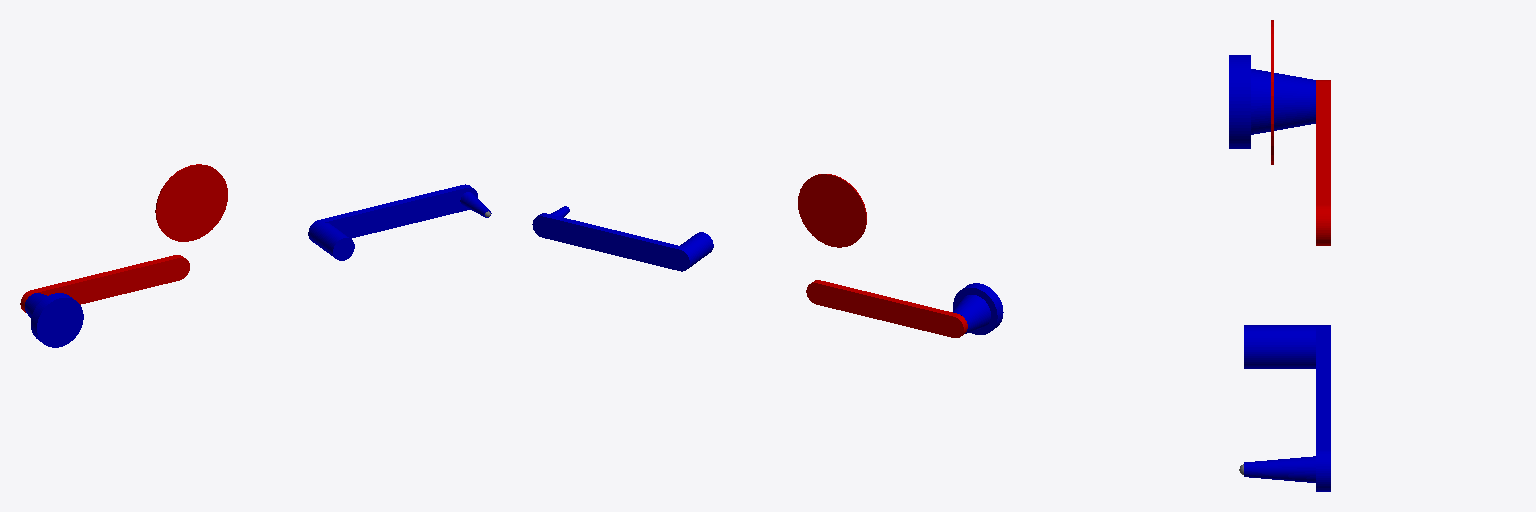
URDF robot description (rrr_robot):
<?xml version="1.0"?>
<robot name="rrr_robot">

  <!-- Materials -->
  <material name="blue">
    <color rgba="0.0 0.0 0.8 1.0"/>
  </material>
  <material name="red">
    <color rgba="0.8 0.0 0.0 1.0"/>
  </material>
  <material name="green">
    <color rgba="0.0 0.8 0.0 1.0"/>
  </material>
  <material name="grey">
    <color rgba="0.5 0.5 0.5 1.0"/>
  </material>

  <link name="world"/>

  <joint name="world_to_base" type="fixed">
    <parent link="world"/>
    <child link="base_joint_link"/>
    <origin xyz="0 0 0" rpy="0 -1.5708 3.141592"/>
  </joint>
  <!-- Base Joint Link (Now the Root Link) -->
  <!-- This link is implicitly fixed to the world origin -->
  <link name="base_joint_link">
    <visual>
      <origin xyz="0 0 0" rpy="0 0 0"/>
      <geometry>
        <mesh filename="package://rrr_challenge/urdf/mesh/base_joint.stl" scale="1 1 1"/>
      </geometry>
      <material name="blue"/>
    </visual>
    <collision>
      <origin xyz="0 0 0" rpy="0 0 0"/>
      <geometry>
        <mesh filename="package://rrr_challenge/urdf/mesh/base_joint.stl" scale="1 1 1"/>
      </geometry>
    </collision>
    <inertial>
      <mass value="0.5"/>
      <inertia ixx="0.005" ixy="0.0" ixz="0.0" iyy="0.005" iyz="0.0" izz="0.005"/>
    </inertial>
  </link>

  <!-- Link 1 -->
  <link name="link1">
    <visual>
      <origin xyz="0 0 0" rpy="0 0 0"/>
      <geometry>
        <mesh filename="package://rrr_challenge/urdf/mesh/first_arm.stl" scale="1 1 1"/>
      </geometry>
      <material name="red"/>
    </visual>
    <collision>
      <origin xyz="0 0 0" rpy="0 0 0"/>
      <geometry>
        <mesh filename="package://rrr_challenge/urdf/mesh/first_arm.stl" scale="1 1 1"/>
      </geometry>
    </collision>
    <inertial>
      <mass value="0.5"/>
      <inertia ixx="0.005" ixy="0.0" ixz="0.0" iyy="0.005" iyz="0.0" izz="0.005"/>
    </inertial>
  </link>

  <!-- Joint 1 -->
  <joint name="joint1" type="revolute">
    <parent link="base_joint_link"/> <!-- This parent is correct -->
    <child link="link1"/>
    <origin xyz="0 -0.175 0" rpy="0 0 0"/> <!-- Adjust this origin if the mesh's own origin is not where the joint should attach -->
    <axis xyz="0 1 0"/>
    <limit lower="-3.14159" upper="3.14159" effort="100" velocity="1.0"/>
    <dynamics damping="0.1" friction="0.1"/>
  </joint>

  <!-- Link 2 -->
  <link name="link2">
    <visual>
      <origin xyz="0 0 0" rpy="0 0 0"/>
      <geometry>
        <mesh filename="package://rrr_challenge/urdf/mesh/second_arm.stl" scale="1 1 1"/>
      </geometry>
      <material name="green"/>
    </visual>
    <collision>
      <origin xyz="0 0 0" rpy="0 0 0"/>
      <geometry>
        <mesh filename="package://rrr_challenge/urdf/mesh/second_arm.stl" scale="1 1 1"/>
      </geometry>
    </collision>
    <inertial>
      <mass value="0.5"/>
      <inertia ixx="0.005" ixy="0.0" ixz="0.0" iyy="0.005" iyz="0.0" izz="0.005"/>
    </inertial>
  </link>

  <!-- Joint 2 -->
  <joint name="joint2" type="revolute">
    <parent link="link1"/>
    <child link="link2"/>
    <origin xyz="0 0.3 1" rpy="0 0 0"/>
    <axis xyz="0 1 0"/>
    <limit lower="-3.14159" upper="3.14159" effort="100" velocity="1.0"/>
    <dynamics damping="0.1" friction="0.1"/>
  </joint>

  <!-- Link 3 (End Effector) -->
  <link name="link3">
    <visual>
      <origin xyz="0 0 0" rpy="0 0 3.14159"/>
      <geometry>
        <mesh filename="package://rrr_challenge/urdf/mesh/third_arm.stl" scale="1 1 1"/>
      </geometry>
      <material name="blue"/>
    </visual>
    <collision>
      <origin xyz="0 0 0" rpy="0 0 3.14159"/>
      <geometry>
        <mesh filename="package://rrr_challenge/urdf/mesh/third_arm.stl" scale="1 1 1"/>
      </geometry>
    </collision>
    <inertial>
      <mass value="0.3"/>
      <inertia ixx="0.003" ixy="0.0" ixz="0.0" iyy="0.003" iyz="0.0" izz="0.003"/>
    </inertial>
  </link>

  <!-- Joint 3 -->
  <joint name="joint3" type="revolute">
    <parent link="link2"/>
    <child link="link3"/>
    <origin xyz="0 -0.3 1" rpy="0 0 0"/>
    <axis xyz="0 1 0"/>
    <limit lower="-3.14159" upper="3.14159" effort="100" velocity="1.0"/>
    <dynamics damping="0.1" friction="0.1"/>
  </joint>

  <!-- Virtual End Effector Link -->
  <link name="end_effector_tip">
    <visual>
      <origin xyz="0 0 0" rpy="0 0 0"/>
      <geometry>
        <sphere radius="0.02"/> <!-- A small sphere to visualize the tip -->
      </geometry>
      <material name="grey"> <!-- Or any other color -->
        <color rgba="0.5 0.5 0.5 0.7"/>
      </material>
    </visual>
    <!-- No collision or inertial properties needed for a virtual point -->
  </link>

  <!-- Fixed Joint to attach End Effector to Link 3 -->
  <joint name="end_effector_fixed_joint" type="fixed">
    <parent link="link3"/>
    <child link="end_effector_tip"/>
    <!-- Adjust XYZ to position the tip relative to link3's origin -->
    <!-- This example places it 0.1m along link3's Z-axis -->
    <origin xyz="0 0.27 1" rpy="0 0 0"/>
  </joint>

  <!-- Transmissions for ROS Control -->
  <transmission name="tran1">
    <type>transmission_interface/SimpleTransmission</type>
    <joint name="joint1">
      <hardwareInterface>hardware_interface/PositionJointInterface</hardwareInterface>
    </joint>
    <actuator name="motor1">
      <hardwareInterface>hardware_interface/PositionJointInterface</hardwareInterface>
      <mechanicalReduction>1</mechanicalReduction>
    </actuator>
  </transmission>

  <transmission name="tran2">
    <type>transmission_interface/SimpleTransmission</type>
    <joint name="joint2">
      <hardwareInterface>hardware_interface/PositionJointInterface</hardwareInterface>
    </joint>
    <actuator name="motor2">
      <hardwareInterface>hardware_interface/PositionJointInterface</hardwareInterface>
      <mechanicalReduction>1</mechanicalReduction>
    </actuator>
  </transmission>

  <transmission name="tran3">
    <type>transmission_interface/SimpleTransmission</type>
    <joint name="joint3">
      <hardwareInterface>hardware_interface/PositionJointInterface</hardwareInterface>
    </joint>
    <actuator name="motor3">
      <hardwareInterface>hardware_interface/PositionJointInterface</hardwareInterface>
      <mechanicalReduction>1</mechanicalReduction>
    </actuator>
  </transmission>

  <material name="constraint_red">
    <color rgba="0.8 0.0 0.0 0.3"/>
  </material>


  <link name="constraint_disk">
    <visual>
      <origin xyz="0 0 0" rpy="1.5708 0 0"/>
      <geometry>
        <cylinder radius="0.25" length="0.01"/>
      </geometry>
      <material name="constraint_red"/>
    </visual>
    <inertial>
      <mass value="0.0001"/>
      <inertia ixx="0.0000001" ixy="0.0" ixz="0.0" iyy="0.0000001" iyz="0.0" izz="0.0000001"/>
    </inertial>
  </link>

 
  <joint name="constraint_disk_joint" type="fixed">
    <parent link="base_joint_link"/>
    <child link="constraint_disk"/>
    <origin xyz="0.5 0 1" rpy="0 0 0"/>
  </joint>

</robot>

--- Facts derived from the render (not from the file) ---
3 views of the same robot in one strip: view 1: azimuth 30°, elevation 25°; view 2: azimuth 150°, elevation 25°; view 3: azimuth 270°, elevation 25° (orthographic).
Model rrr_robot with 7 links and 6 joints (3 revolute, 3 fixed), rooted at world, posed every joint at zero.
Visible links, largest first — view 1: link3, constraint_disk, link1, base_joint_link; view 2: link3, link1, constraint_disk, base_joint_link; view 3: link3, base_joint_link, link1.
Link boxes in pixels (<box>): link3: <box>308,184,491,260</box>; constraint_disk: <box>155,164,227,241</box>; link1: <box>20,255,189,312</box>; base_joint_link: <box>25,293,83,347</box>; link3: <box>532,206,713,271</box>; link1: <box>806,280,967,337</box>; constraint_disk: <box>798,174,866,247</box>; base_joint_link: <box>953,283,1003,334</box>; link3: <box>1244,325,1330,491</box>; base_joint_link: <box>1229,55,1315,148</box>; link1: <box>1316,80,1330,245</box>.
Size in the robot's own frame: 3.24 by 0.35 by 0.9124 metres.
3 mesh visuals loaded from 4 distinct referenced files (3 binary STL); not drawn: 1 (reference not matched to a file when rendering).